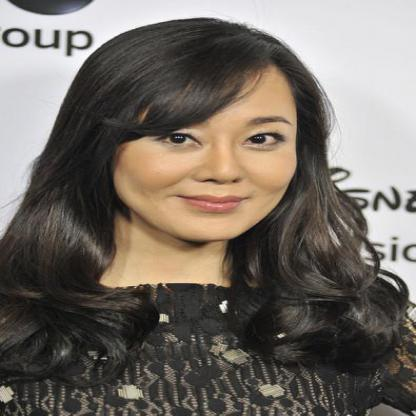long-hair: (1, 242, 395, 306)
